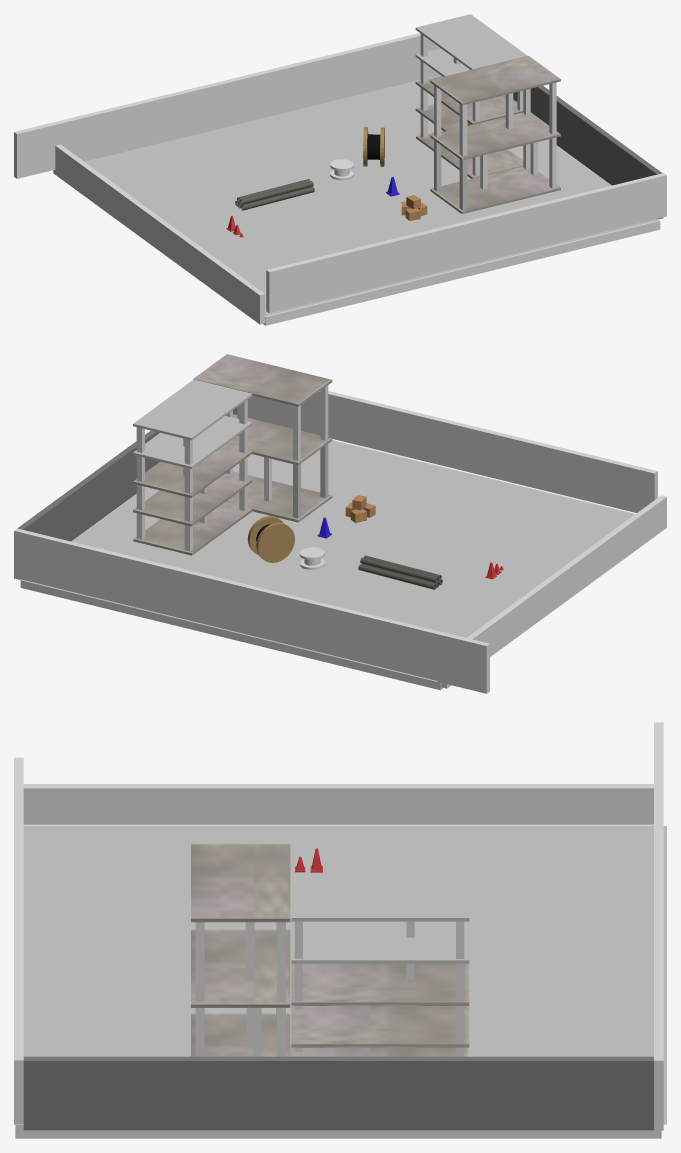
File: constructionSite.fbx
3 views of the same model, one above another, from view 1: azimuth 30°, elevation 25°; view 2: azimuth 150°, elevation 25°; view 3: azimuth 270°, elevation 25° (orthographic). The views are drawn at different scales.
Parts seen in each view (by area): view 1: Plane, Cube.002, Cube.001, Cube.004, Cube.003, Cube, Cube.026, Cube.037, Cube.031, Cube.032, Cube.043, Cube.045 (+5 smaller); view 2: Plane, Cube.002, Cube.001, Cube.004, Cube.003, Cube, Cube.037, Cube.026, Cube.043, Cube.038, Cube.045, Cube.044 (+6 smaller); view 3: Plane, Cube.003, Cube.004, Cube.037, Cube.026, Cube, Cube.044, Cube.038, Cube.043, Cube.031, Cube.002, Cube.001 (+6 smaller).
Boxes of the visible parts, x1,y1,x2,y2 form: Plane: (84,75,658,315); Cube.002: (14,33,440,178); Cube.001: (266,173,666,313); Cube.004: (53,144,265,324); Cube.003: (513,86,663,219); Cube: (263,139,660,325); Cube.026: (430,56,560,105); Cube.037: (415,14,527,69); Cube.031: (430,112,560,160); Cube.032: (430,166,560,213); Cube.043: (415,75,523,124); Cube.045: (416,130,523,178); Plane: (20,440,634,681); Cube.002: (14,528,489,693); Cube.001: (247,391,657,512); Cube.004: (441,495,666,688); Cube.003: (17,407,237,541); Cube: (20,439,635,690); Cube.037: (133,379,252,440); Cube.026: (193,354,332,406); Cube.043: (133,444,252,497); Cube.038: (133,416,252,468); Cube.045: (133,502,252,555); Cube.044: (133,473,252,526); Plane: (23,826,666,1124); Cube.003: (23,1056,653,1130); Cube.004: (23,784,653,824); Cube.037: (291,876,469,921); Cube.026: (191,843,290,922); Cube: (15,824,661,1138); Cube.044: (291,1006,469,1047); Cube.038: (291,921,469,963); Cube.043: (291,963,469,1005); Cube.031: (191,929,290,1007); Cube.002: (654,722,663,1130); Cube.001: (14,757,23,1124).
Bounding box in the file's own units: 2036 × 524 × 1658.
